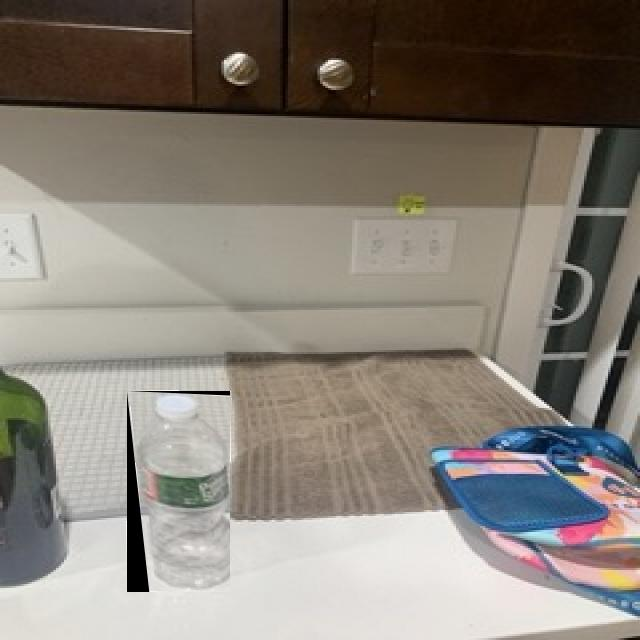water_bottle: (127, 391, 230, 592)
